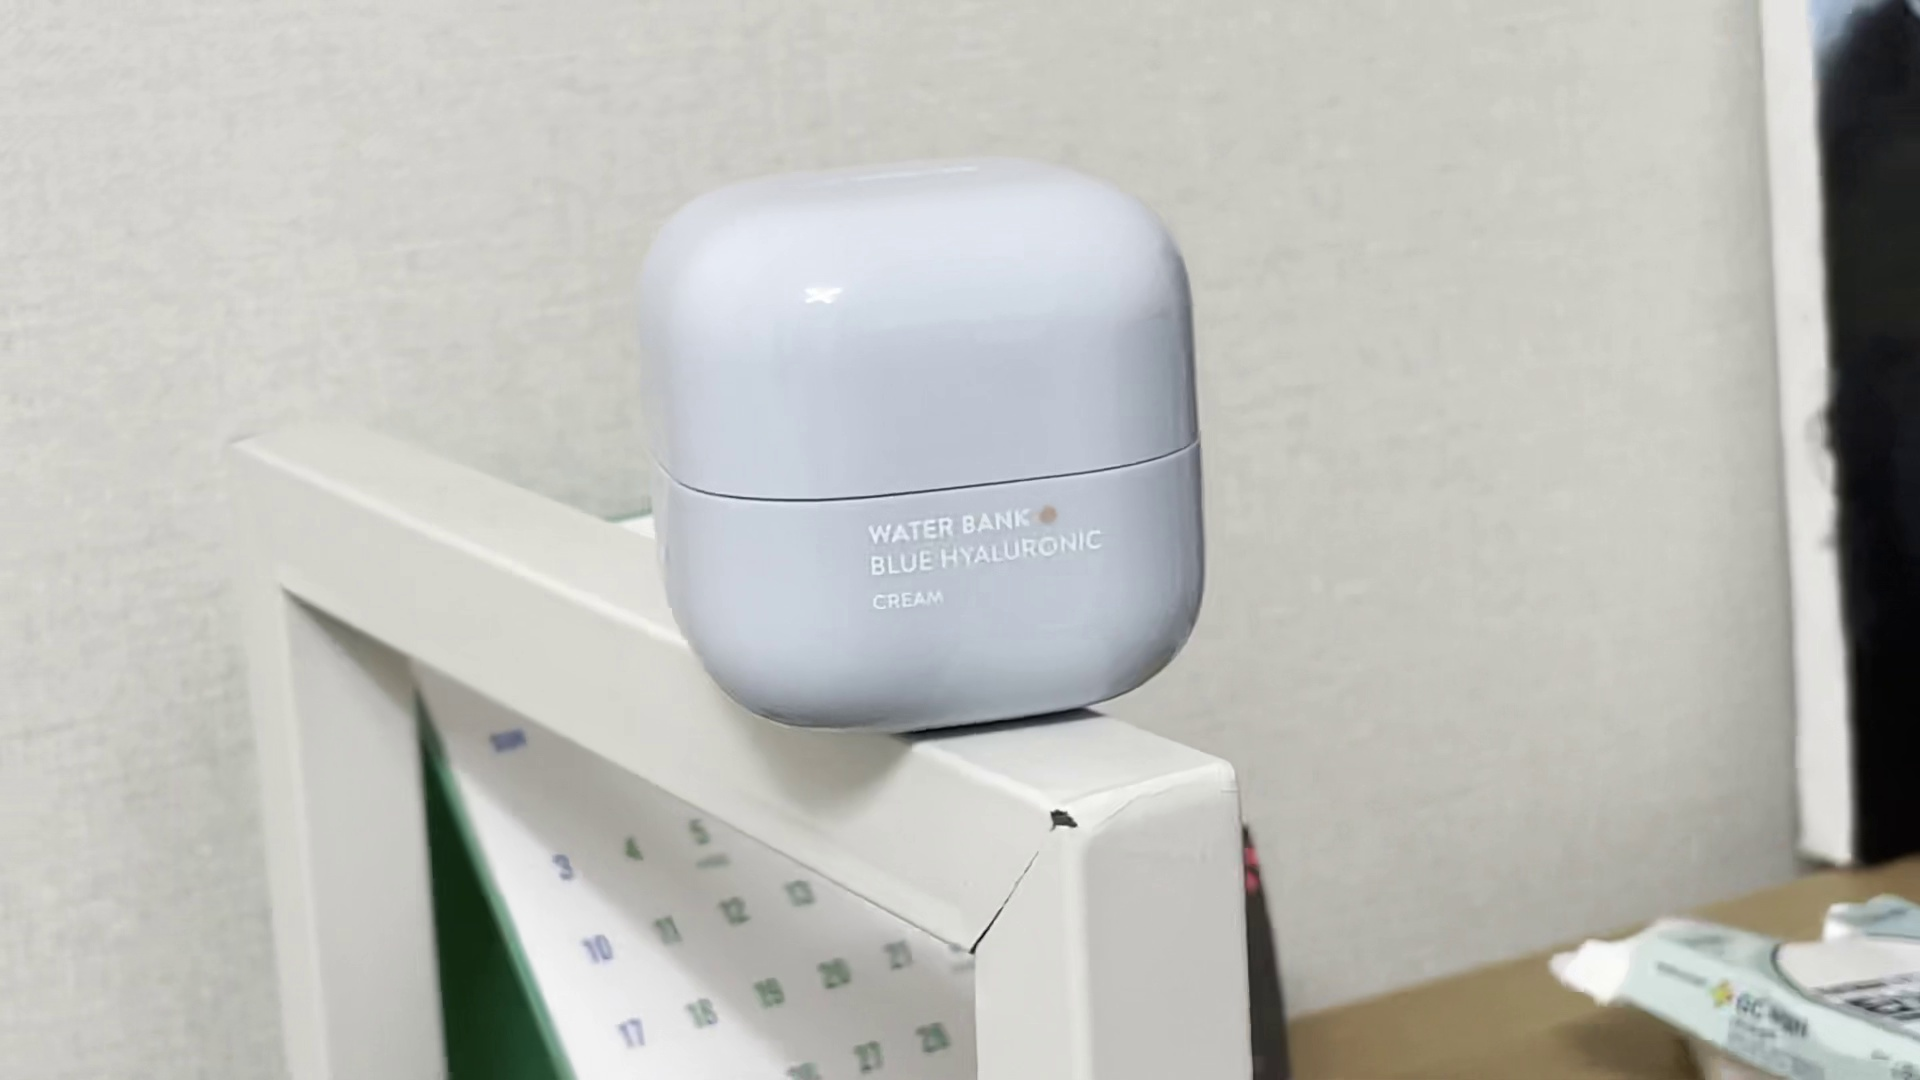cream: (640, 156, 1205, 745)
